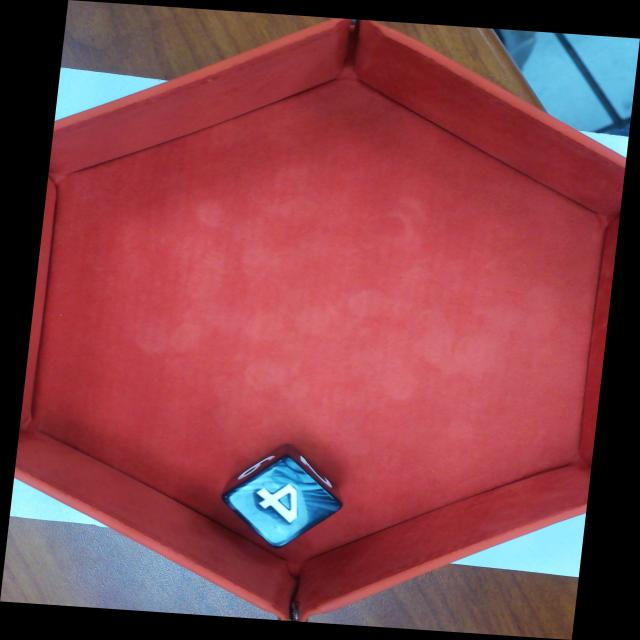dice: (214, 453, 346, 551)
